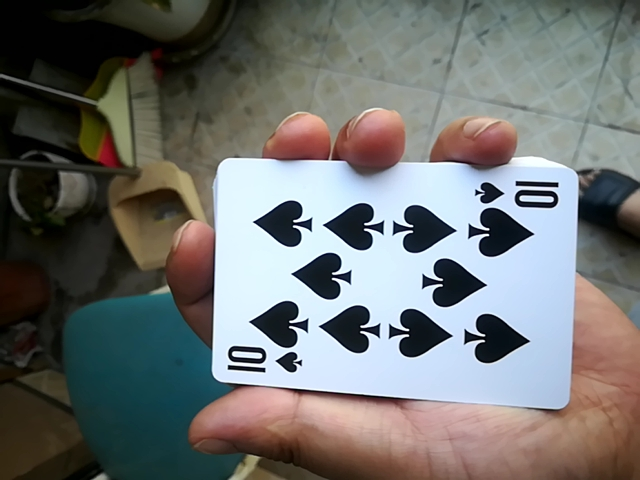ht 10: (207, 157, 591, 406)
